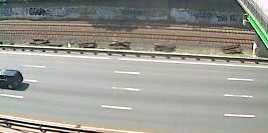car: (1, 68, 28, 90)
